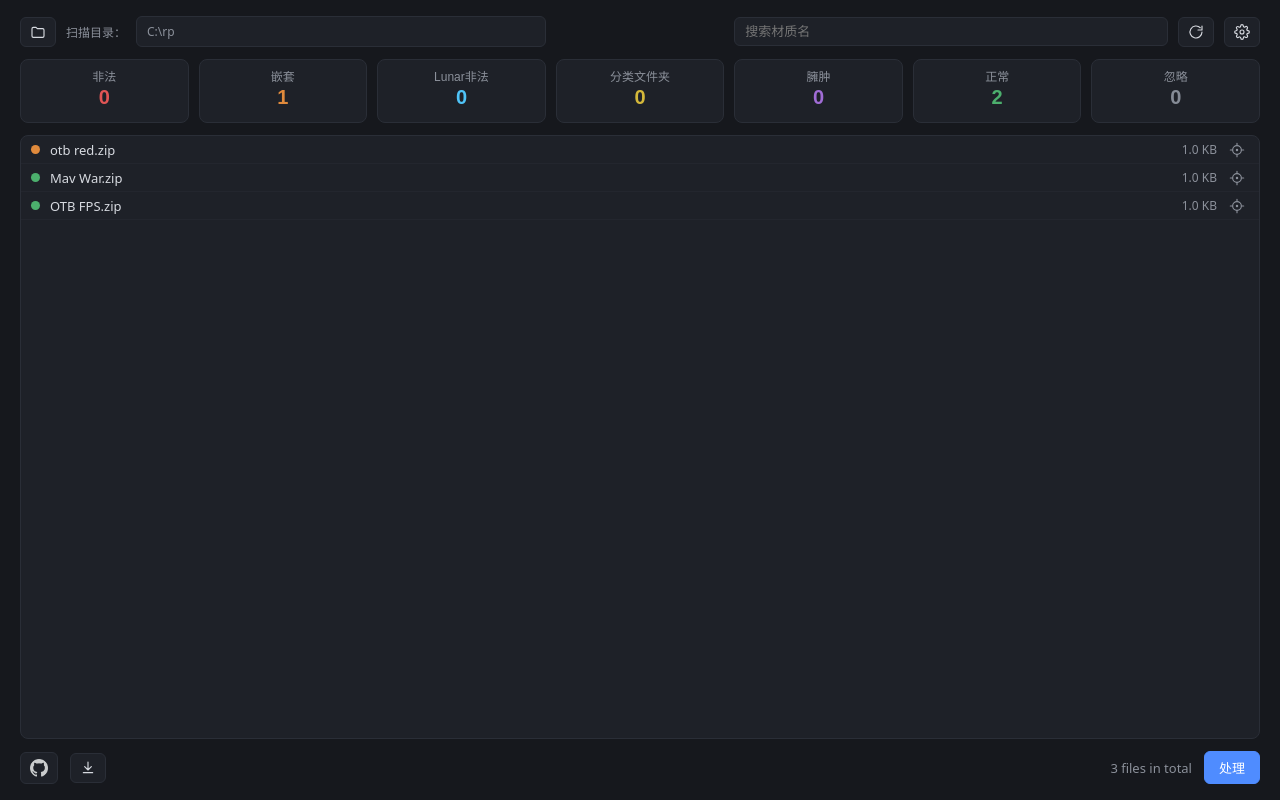
search box filters by name and intersects with the card filter
Expected: the text "Mav War.zip" is shown, [50,168,122,186]
Type "otb" into the field labelled "搜索材质名" at (951, 32), box [734,17,1168,46]
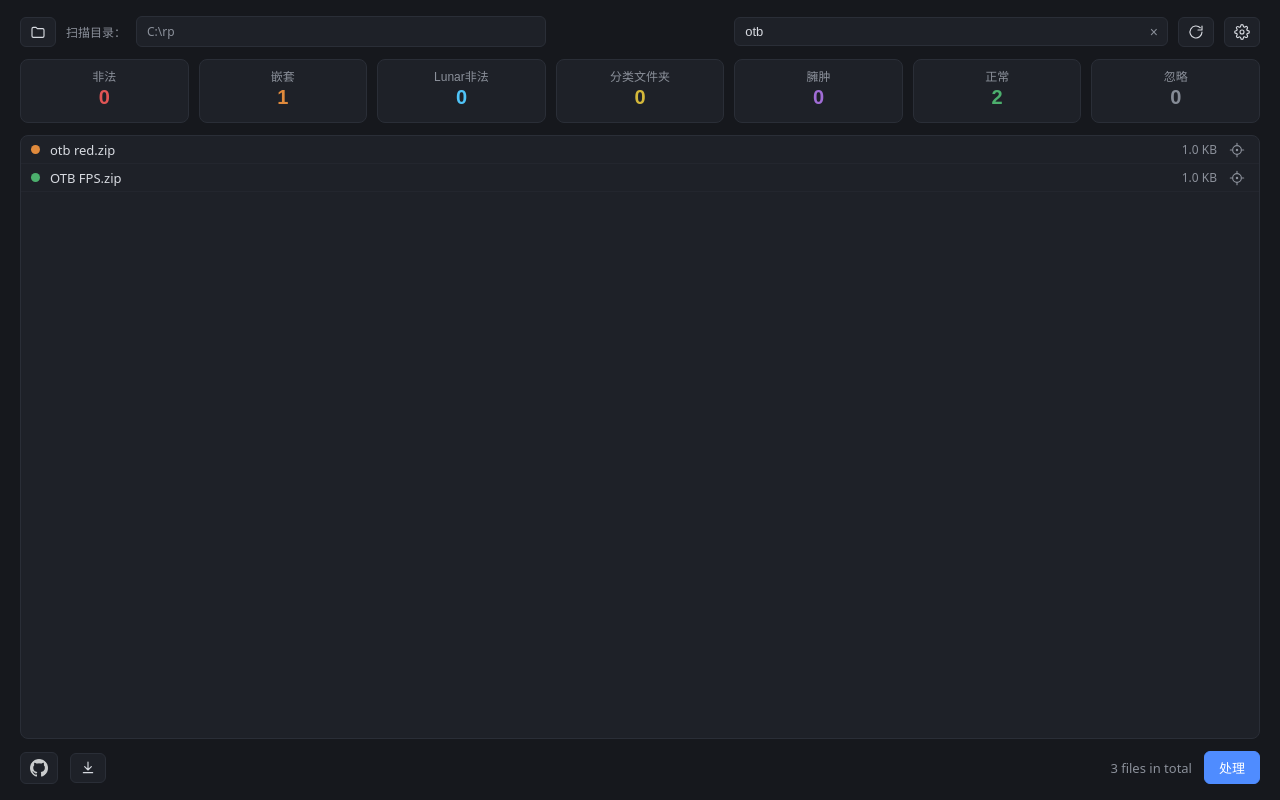
Expected: the text "OTB FPS.zip" is shown, [50,168,122,186]
Expected: the text "Mav War.zip" is gone
Click the text "嵌套" at (283, 77), box [271,70,295,84]
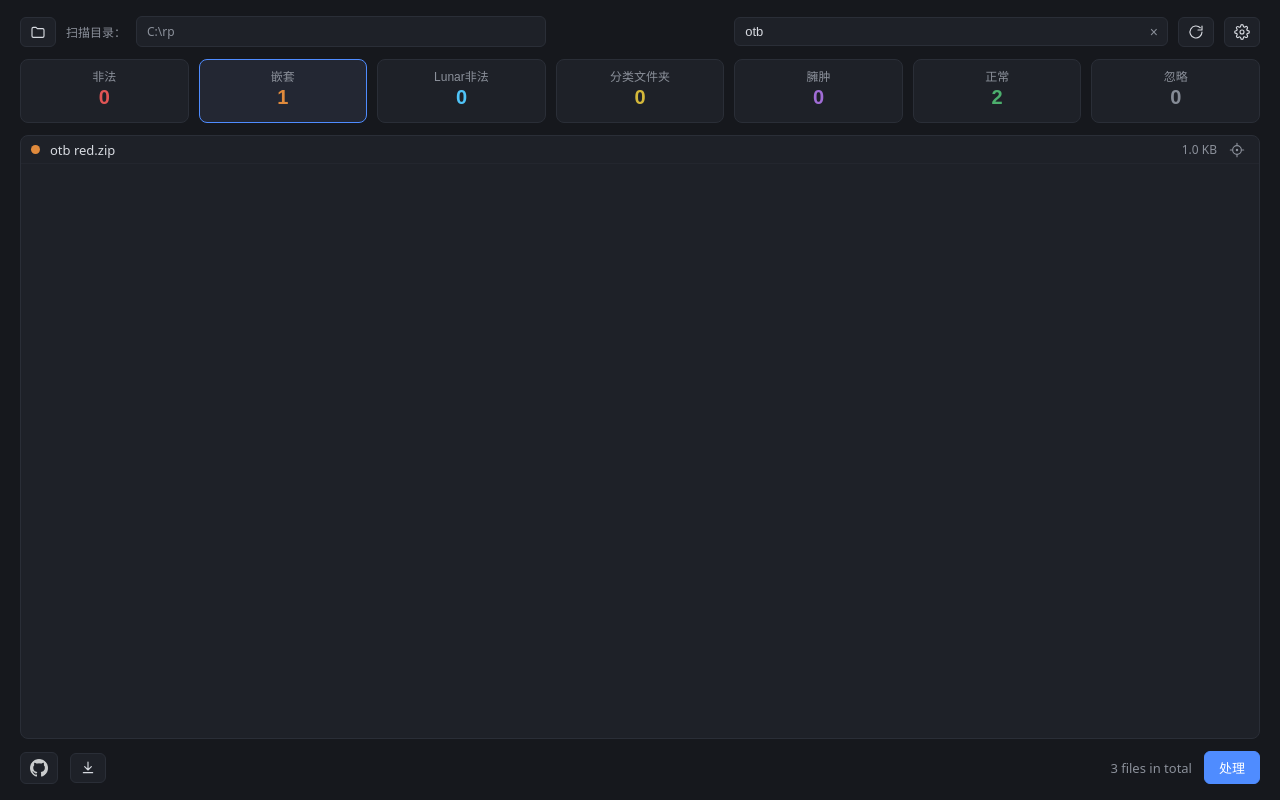
Expected: the text "otb red.zip" is shown, [50,140,115,158]
Expected: the text "OTB FPS.zip" is gone
Click the button named "清除搜索" at (1154, 32), box [1144,24,1164,38]
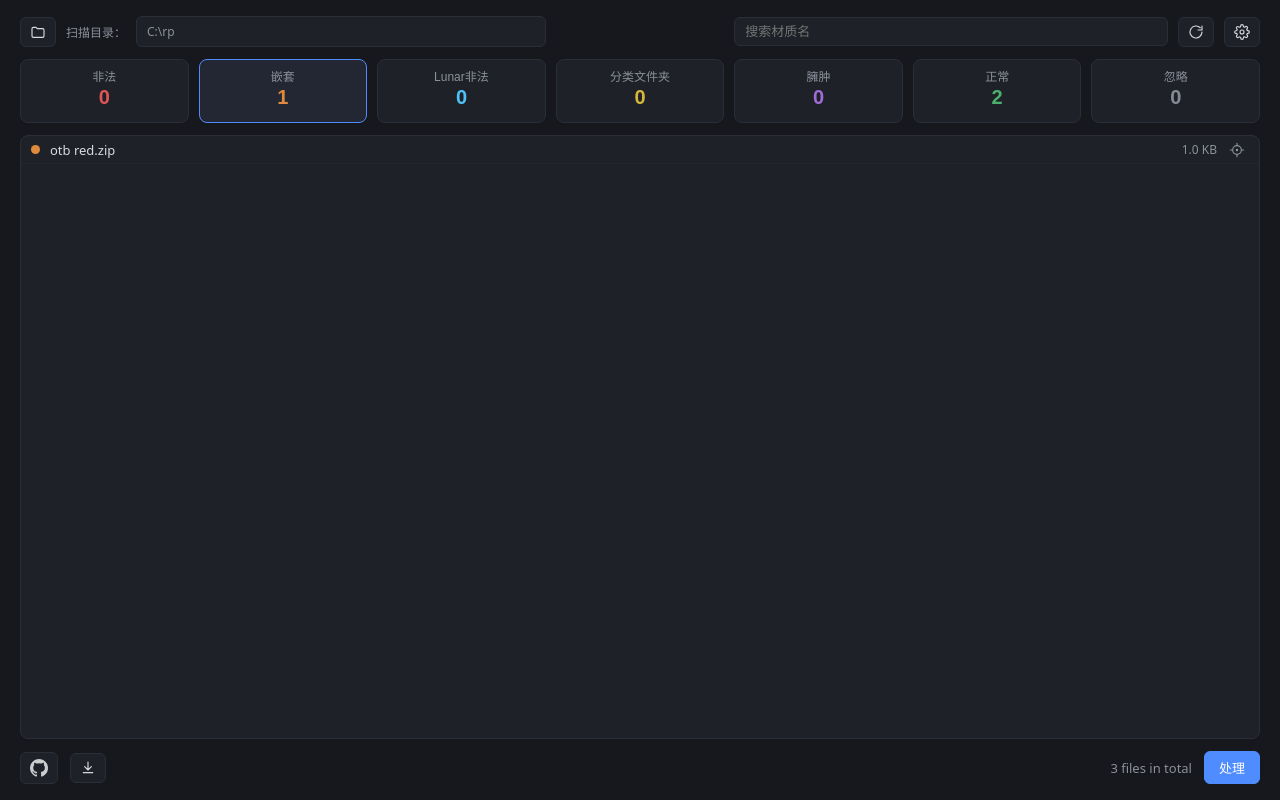
Click the text "嵌套" at (283, 77), box [271,70,295,84]
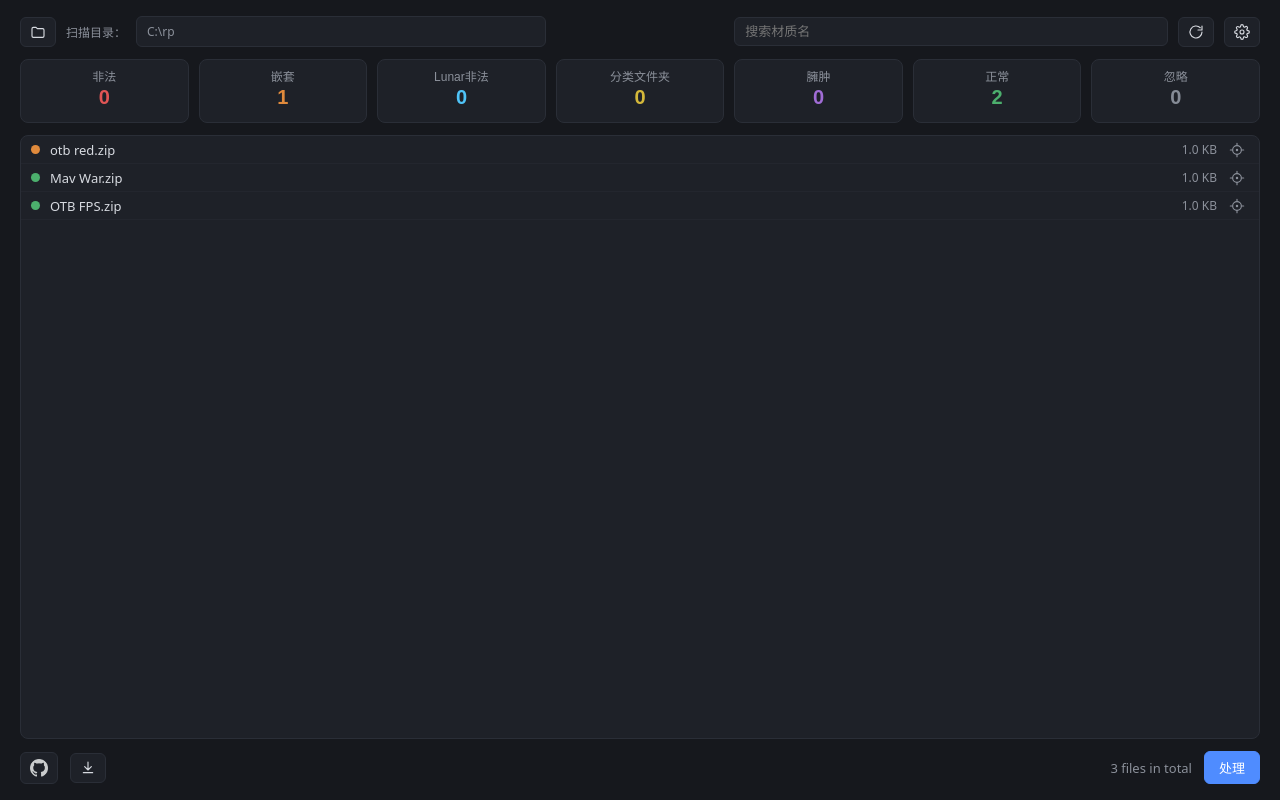
Expected: the text "Mav War.zip" is shown, [50,168,122,186]
